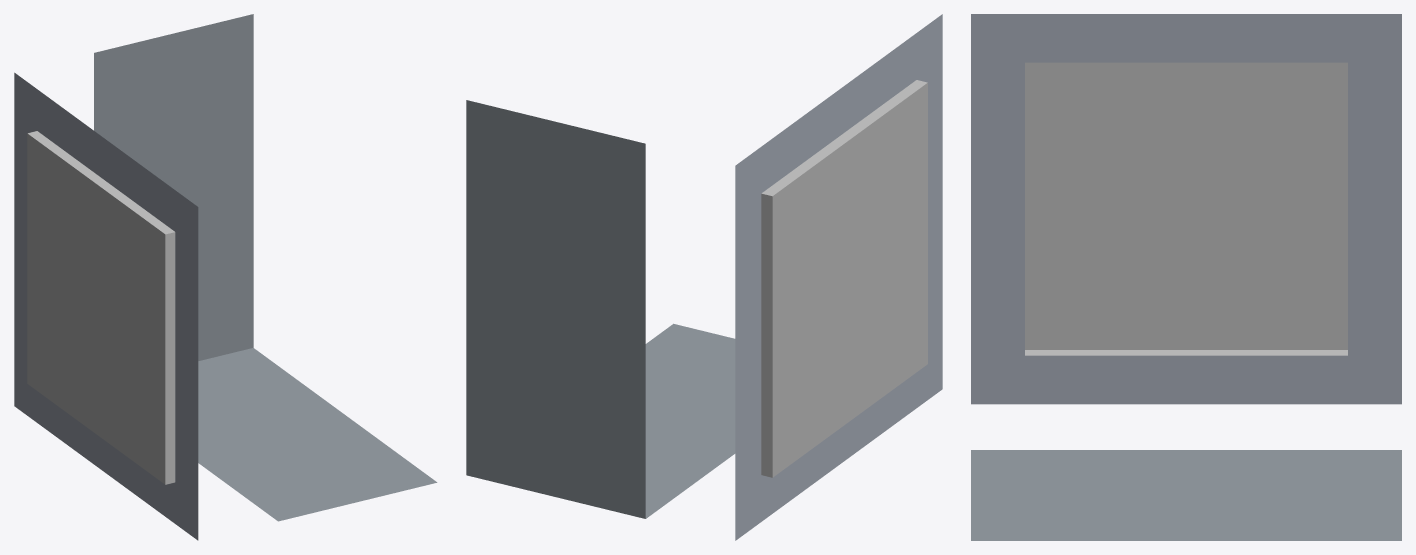
File: cell_263.obj
The picture shows the model from 3 angles, left to right: view 1: azimuth 30°, elevation 25°; view 2: azimuth 150°, elevation 25°; view 3: azimuth 270°, elevation 25°; orthographic projection. The views are drawn at different scales.
Size of the model in its own units: 0.7812 by 1 by 1.
